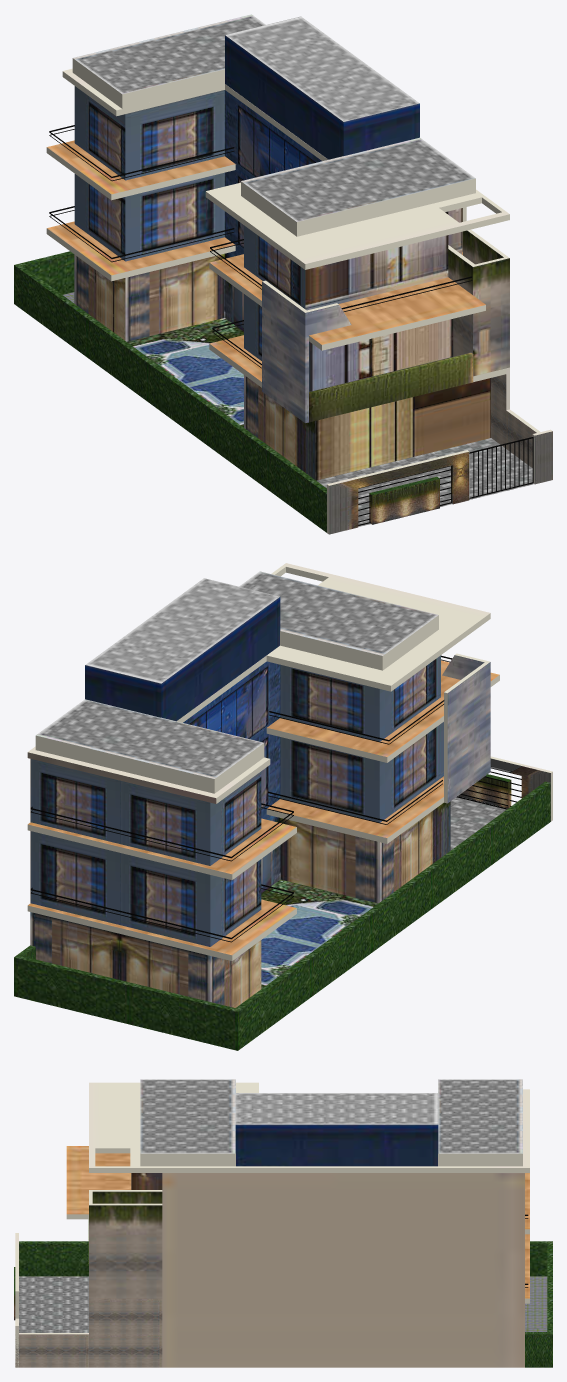
The picture shows the model from 3 angles, top to bottom: view 1: azimuth 30°, elevation 25°; view 2: azimuth 150°, elevation 25°; view 3: azimuth 270°, elevation 25°; orthographic projection. The views are drawn at different scales.
Visible parts, largest first — view 1: 5de86b8748934b1c30db62a1; view 2: 5de86b8748934b1c30db62a1; view 3: 5de86b8748934b1c30db62a1.
Part boxes in pixels (left/top/right/bottom): 5de86b8748934b1c30db62a1: left=14, top=14, right=552, bottom=534; 5de86b8748934b1c30db62a1: left=14, top=563, right=552, bottom=1050; 5de86b8748934b1c30db62a1: left=14, top=1079, right=552, bottom=1367.
Size of the model in its own units: 12 by 14.51 by 29.33.
1 material, 1 textured.
